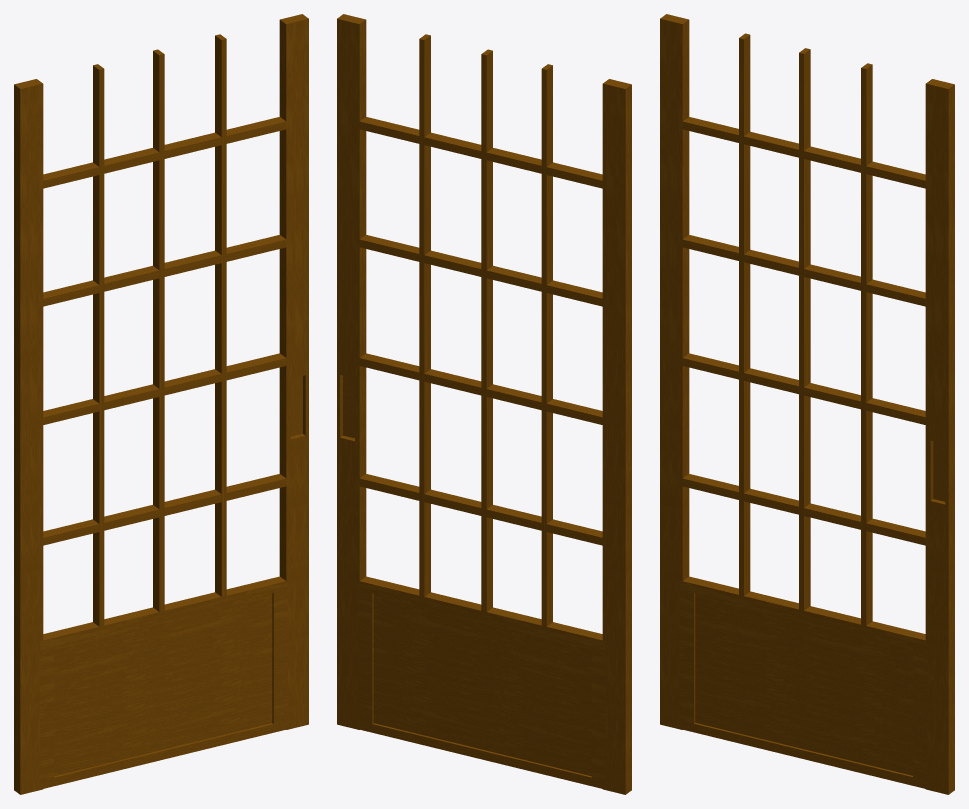
Rendered from result_syouji_left.obj.
The picture shows the model from 3 angles, left to right: view 1: azimuth 30°, elevation 25°; view 2: azimuth 150°, elevation 25°; view 3: azimuth 330°, elevation 25°; orthographic projection.
Parts seen in each view (by area): view 1: 立方体.532; view 2: 立方体.532; view 3: 立方体.532.
Part boxes in pixels (x1,y1,x2,y2): 立方体.532: (14,14,308,794); 立方体.532: (337,14,631,794); 立方体.532: (660,14,954,794).
Bounding box in the file's own units: 41.49 × 97 × 1.61.
1 material, 1 textured.
